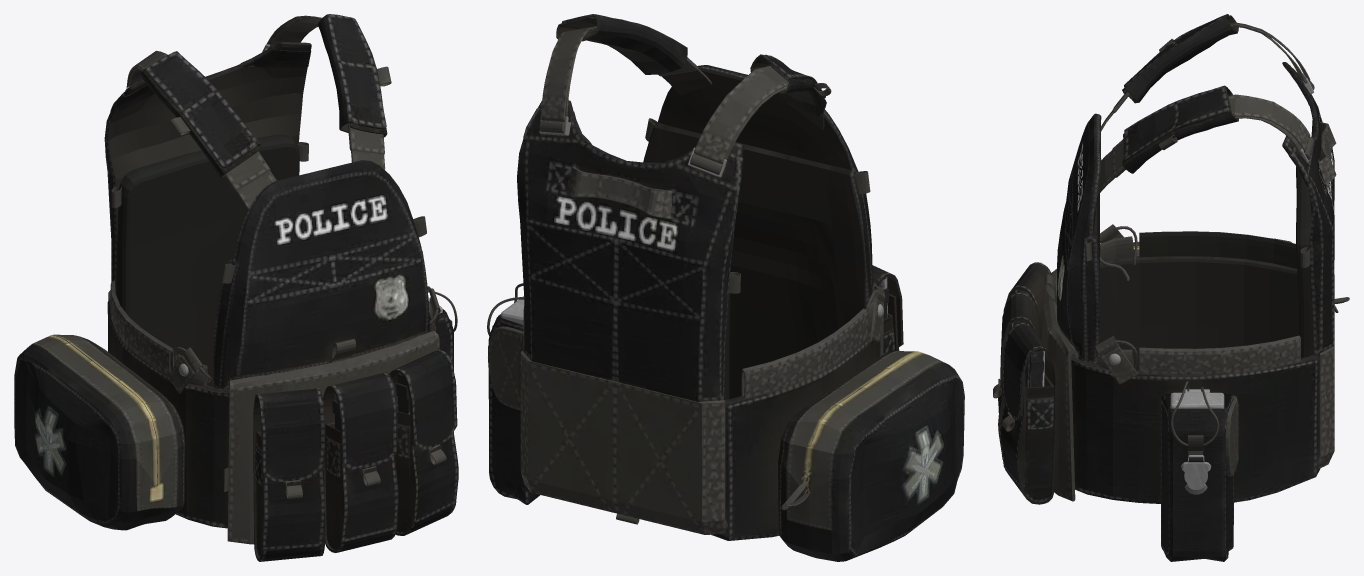
File: police-vest-compressed.glb
3 views of the same model, side by side, from view 1: azimuth 30°, elevation 25°; view 2: azimuth 150°, elevation 25°; view 3: azimuth 270°, elevation 25° (orthographic). The views are drawn at different scales.
Parts seen in each view (by area): view 1: defaultMaterial (×4); view 2: defaultMaterial (×4); view 3: defaultMaterial (×3).
Part boxes in pixels (left/top/right/bottom): defaultMaterial (×4): left=14, top=14, right=458, bottom=561; defaultMaterial (×4): left=487, top=14, right=964, bottom=561; defaultMaterial (×3): left=993, top=14, right=1336, bottom=561.
Bounding box in the file's own units: 543 × 605 × 448.
4 materials, 4 textured.
